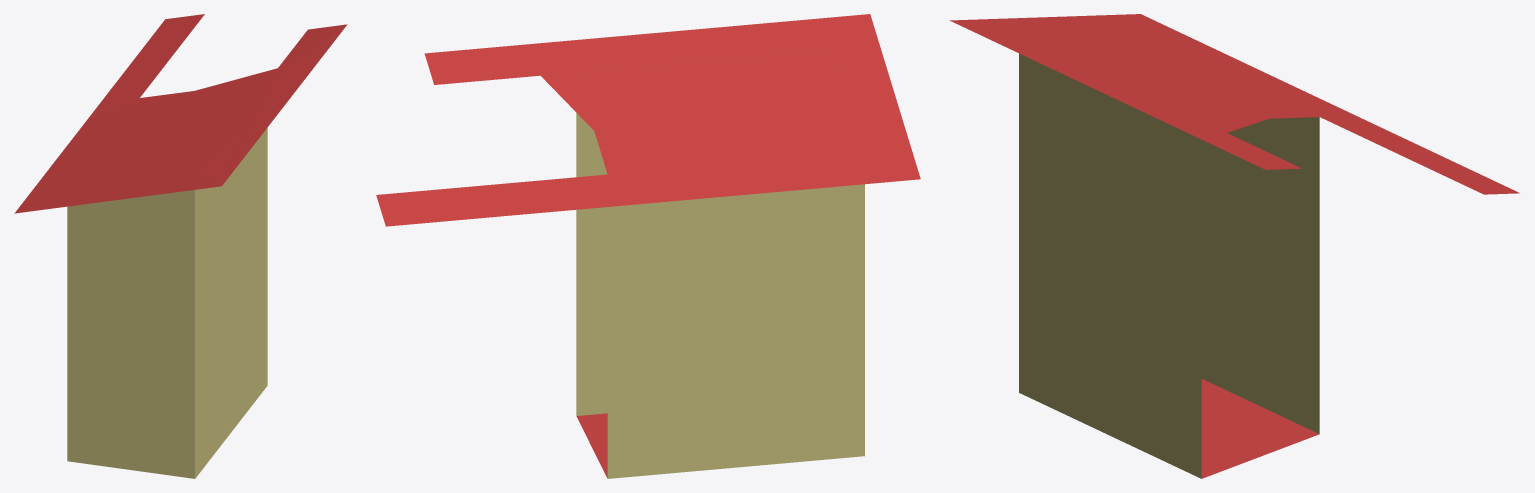
3 views of the same model, side by side, from view 1: azimuth 30°, elevation 25°; view 2: azimuth 150°, elevation 25°; view 3: azimuth 270°, elevation 25° (orthographic). The views are drawn at different scales.
Size of the model in its own units: 7.99 by 8.7 by 6.23.
